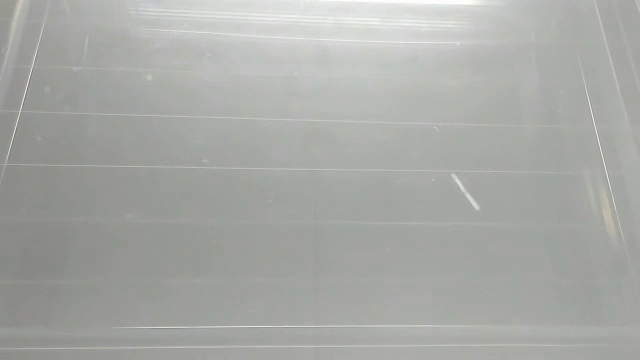alpha: (444, 168, 485, 213)
